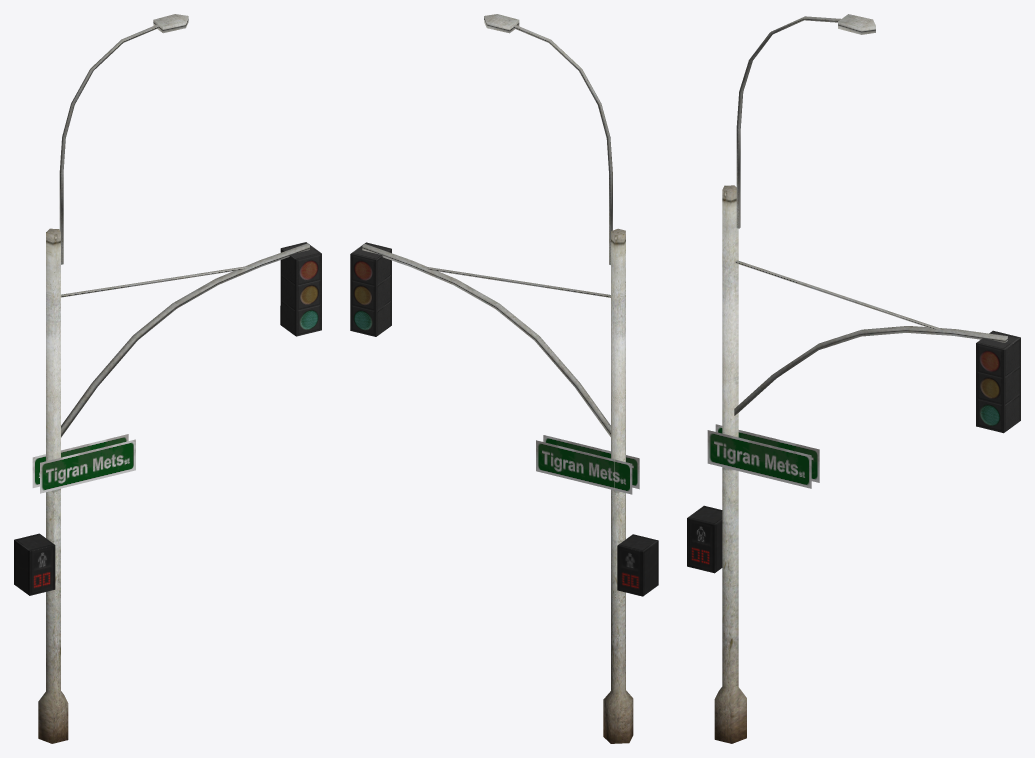
File: light.fbx
3 renders of one model, left to right at view 1: azimuth 30°, elevation 25°; view 2: azimuth 150°, elevation 25°; view 3: azimuth 330°, elevation 25°, orthographic. The views are drawn at different scales.
Parts seen in each view (by area): view 1: Cylinder; view 2: Cylinder; view 3: Cylinder.
Part boxes in pixels (x1,y1,x2,y2): Cylinder: (14, 14, 321, 743); Cylinder: (350, 14, 658, 743); Cylinder: (687, 14, 1020, 743).
Size of the model in its own units: 881 by 1983 by 82.21.
